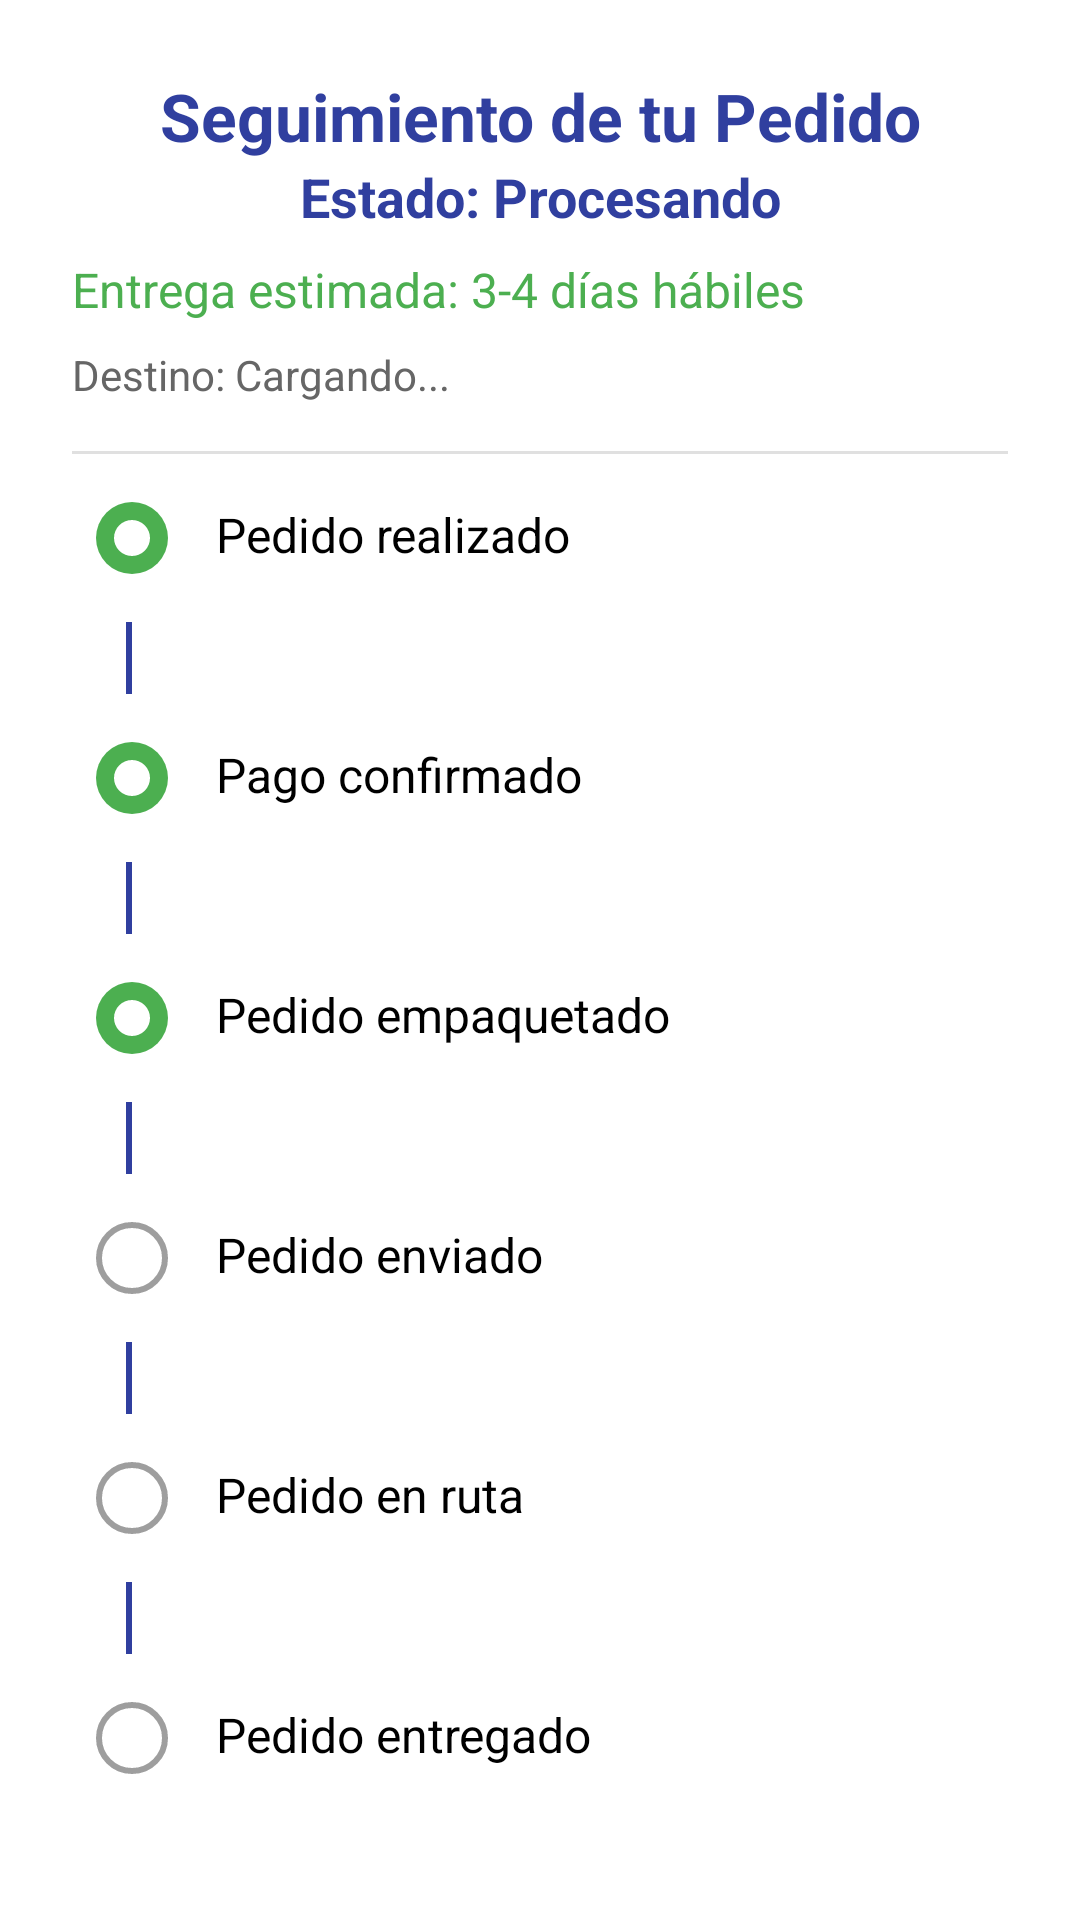

Point at icon controls on the screen. Image size 1080 × 1920, points as [x,y].
circle completed: [132,538], [132,778], [132,1018]
circle pending: [132,1258], [132,1498], [132,1738]
